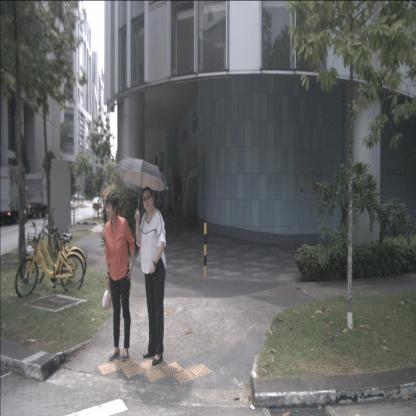human-pedestrian-adult: (115, 157, 167, 367), (102, 192, 136, 362)
vehicle-bicycle: (45, 207, 64, 259)
vehicle-car: (92, 197, 102, 209), (72, 194, 86, 202)
vehicle-truck: (0, 166, 31, 225), (23, 175, 60, 218)
